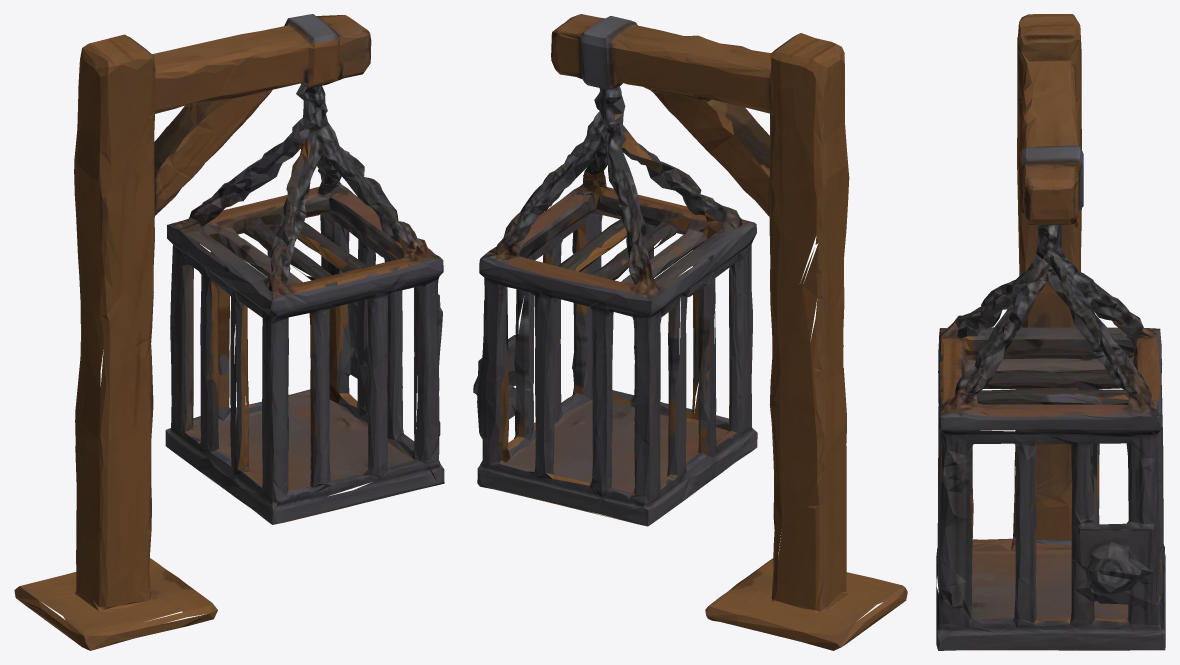
Rendered from cage.glb.
3 views of the same model, side by side, from view 1: azimuth 30°, elevation 25°; view 2: azimuth 150°, elevation 25°; view 3: azimuth 270°, elevation 25° (orthographic). The views are drawn at different scales.
Visible parts, largest first — view 1: cage_frame, cage_door; view 2: cage_frame, cage_door; view 3: cage_frame, cage_door.
Boxes of the visible parts, x1,y1,x2,y2 form: cage_frame: (14,14,444,650); cage_door: (239,195,441,506); cage_frame: (473,14,907,650); cage_door: (572,172,756,442); cage_frame: (936,14,1165,650); cage_door: (936,292,1012,622).
Bounding box in the file's own units: 1.85 × 2.75 × 0.97.
Materials: 1 (1 with a texture image).
